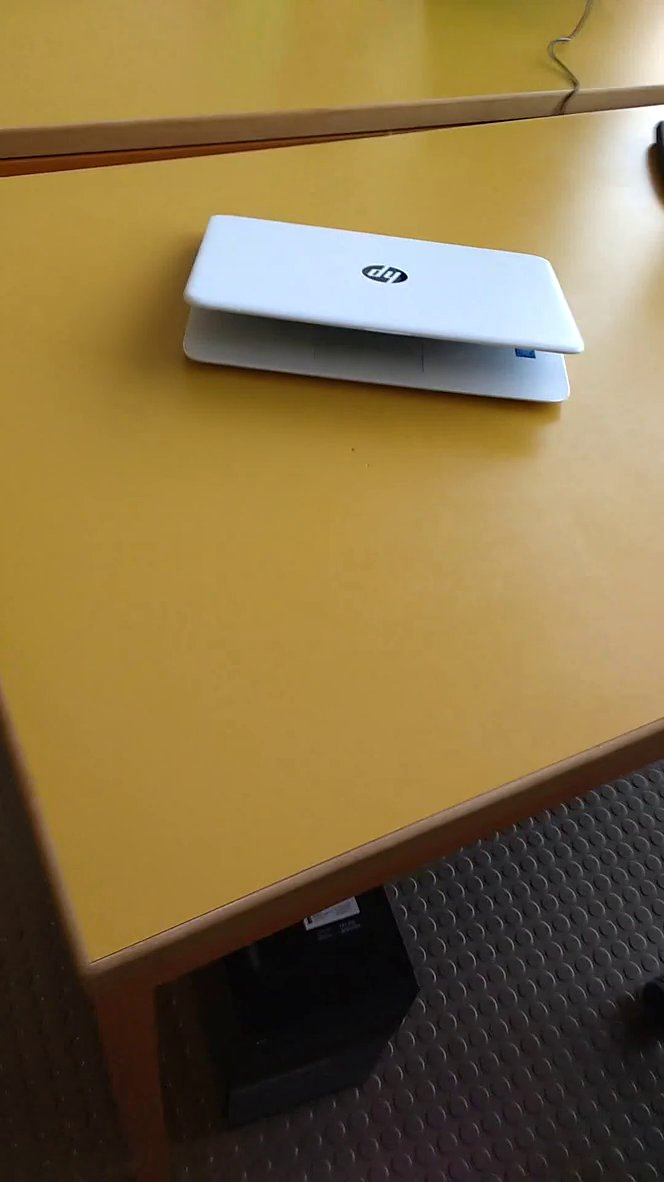laptop: (168, 190, 610, 431)
